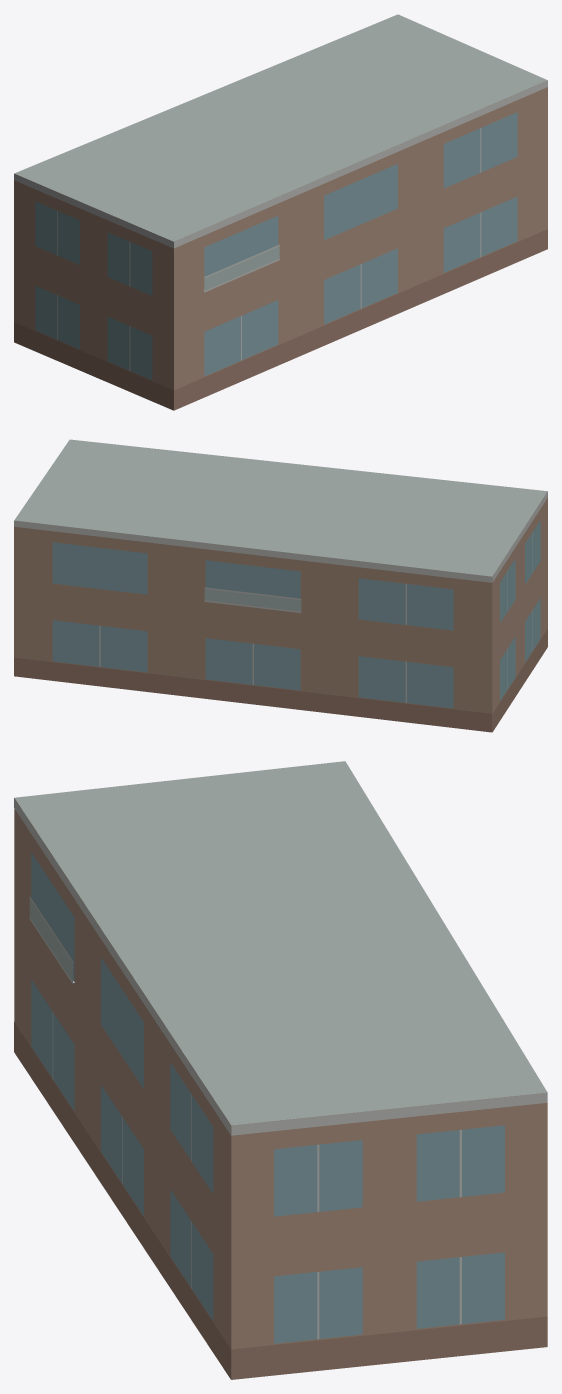
The model's file is survey-upis-33014518.glb.
3 views of the same model, one above another, from view 1: azimuth 30°, elevation 25°; view 2: azimuth 150°, elevation 25°; view 3: azimuth 270°, elevation 25° (orthographic). The views are drawn at different scales.
Visible parts, largest first — view 1: survey-upis-33014518.tmp; view 2: survey-upis-33014518.tmp; view 3: survey-upis-33014518.tmp.
Part boxes in pixels (bbox=[...]): survey-upis-33014518.tmp: bbox=[14, 14, 547, 410]; survey-upis-33014518.tmp: bbox=[14, 439, 547, 732]; survey-upis-33014518.tmp: bbox=[14, 761, 547, 1379].
Bounding box in the file's own units: 18.76 × 6.1 × 11.61.
